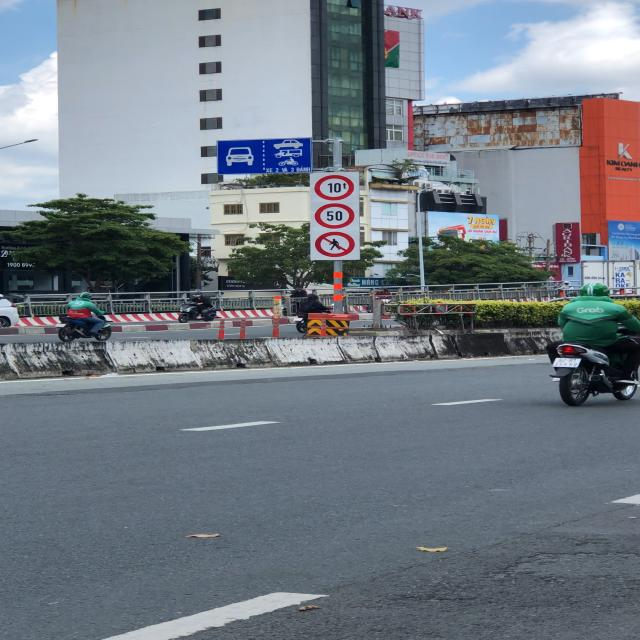Bien bao cam nguoi di bo: (313, 230, 358, 259)
Bien bao toc do toi da cho phep: (314, 202, 357, 230)
